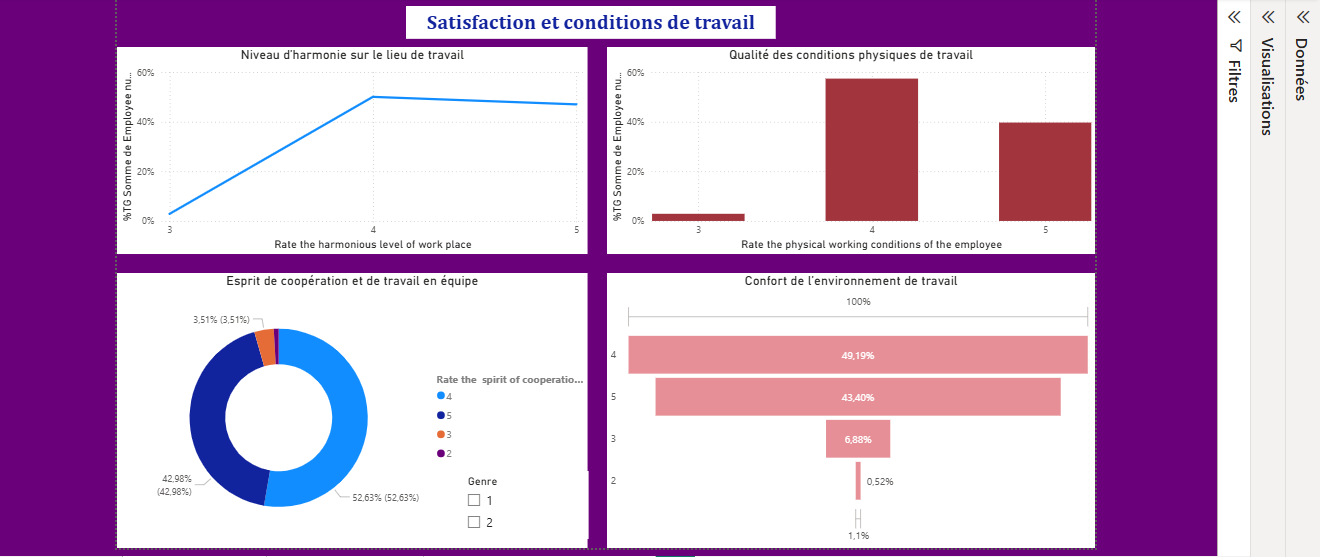

This screenshot's page, from the dashboard's own definition file:
{"tool":"powerbi","page":{"name":"Satisfaction et conditions de travail","canvas":[1280,720],"ordinal":2},"visuals":[{"type":"textbox","box":[378.5,11,484.5,44],"z":0},{"type":"lineChart","title":"Niveau d’harmonie sur le lieu de travail","fields":{"Category":["Table 1 (Rawdata). Rate the harmonious level of work  place   "],"Y":["Divide(Sum(Table 1 (Rawdata).Employee number), ScopedEval(Sum(Table 1 (Rawdata).Employee number), []))"]},"box":[0,64.8,616.3,270.7],"z":1000},{"type":"columnChart","title":"Qualité des conditions physiques de travail","fields":{"Category":["Table 1 (Rawdata).Rate the physical working conditions of the employee"],"Y":["Sum(Table 1 (Rawdata).Employee number)"]},"box":[640.8,64.8,639.4,270.7],"z":2000},{"type":"donutChart","title":"Esprit de coopération et de travail en équipe","fields":{"Y":["Sum(Table 1 (Rawdata).Employee number)"],"Category":["Table 1 (Rawdata).Rate the  spirit of cooperation and team work"]},"box":[0,360,616.3,360],"z":3000},{"type":"funnel","title":"Confort de l’environnement de travail","fields":{"Category":["Table 1 (Rawdata).Comfortable physical working environment "],"Y":["Divide(Sum(Table 1 (Rawdata).Employee number), ScopedEval(Sum(Table 1 (Rawdata).Employee number), []))"]},"box":[640.8,360,639.4,360],"z":4000},{"type":"slicer","fields":{"Values":["Table 1 (Rawdata).Gender"]},"box":[445.9,619.4,170.7,89.5],"z":5000}]}

Visuals, with their boxes in screenshot pixels (x1, y1, x2, y2):
textbox: select_region(402, 5, 772, 39)
"Niveau d’harmonie sur le lieu de travail" lineChart: select_region(113, 46, 584, 252)
"Qualité des conditions physiques de travail" columnChart: select_region(602, 46, 1090, 252)
"Esprit de coopération et de travail en équipe" donutChart: select_region(113, 271, 584, 546)
"Confort de l’environnement de travail" funnel: select_region(602, 271, 1090, 546)
slicer - Table 1 (Rawdata).Gender: select_region(454, 469, 584, 537)
